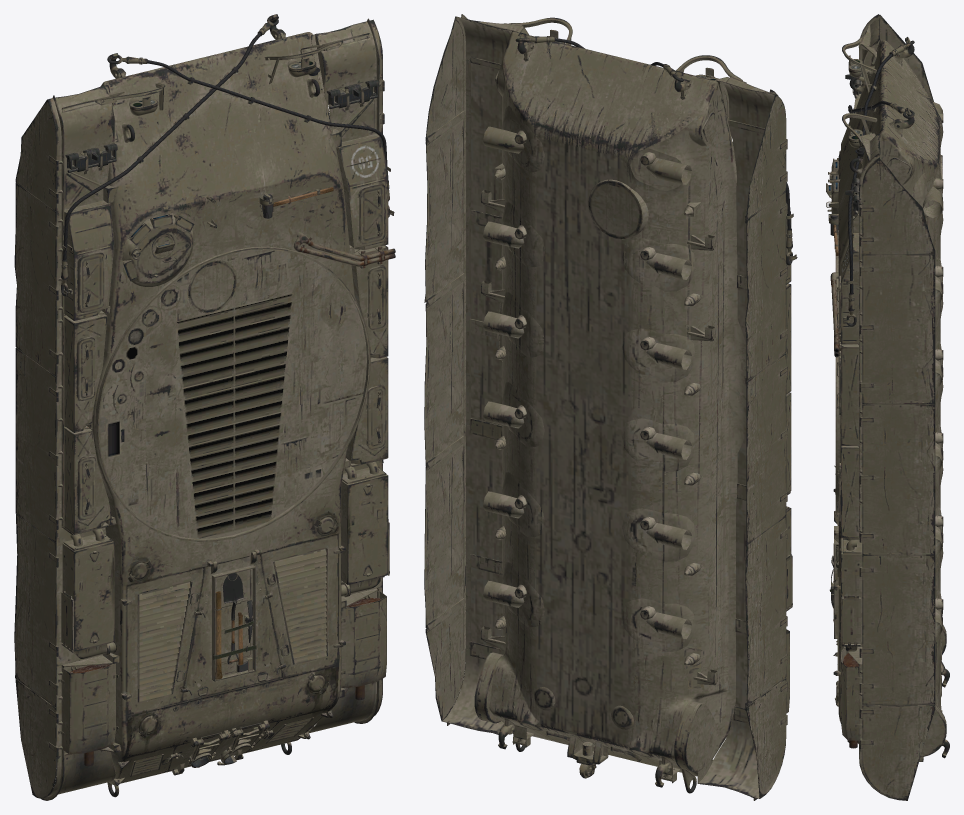
File: Hull.glb
The picture shows the model from 3 angles, left to right: view 1: azimuth 30°, elevation 25°; view 2: azimuth 150°, elevation 25°; view 3: azimuth 270°, elevation 25°; orthographic projection. The views are drawn at different scales.
Visible parts, largest first — view 1: set_0_group_0; view 2: set_0_group_0; view 3: set_0_group_0.
Part boxes in pixels (x1=…): set_0_group_0: x1=14, y1=14, x2=395, y2=800; set_0_group_0: x1=424, y1=14, x2=797, y2=800; set_0_group_0: x1=826, y1=14, x2=949, y2=800.
Bounding box in the file's own units: 3.7 × 7.84 × 1.32.
Materials: 1 (1 with a texture image).
